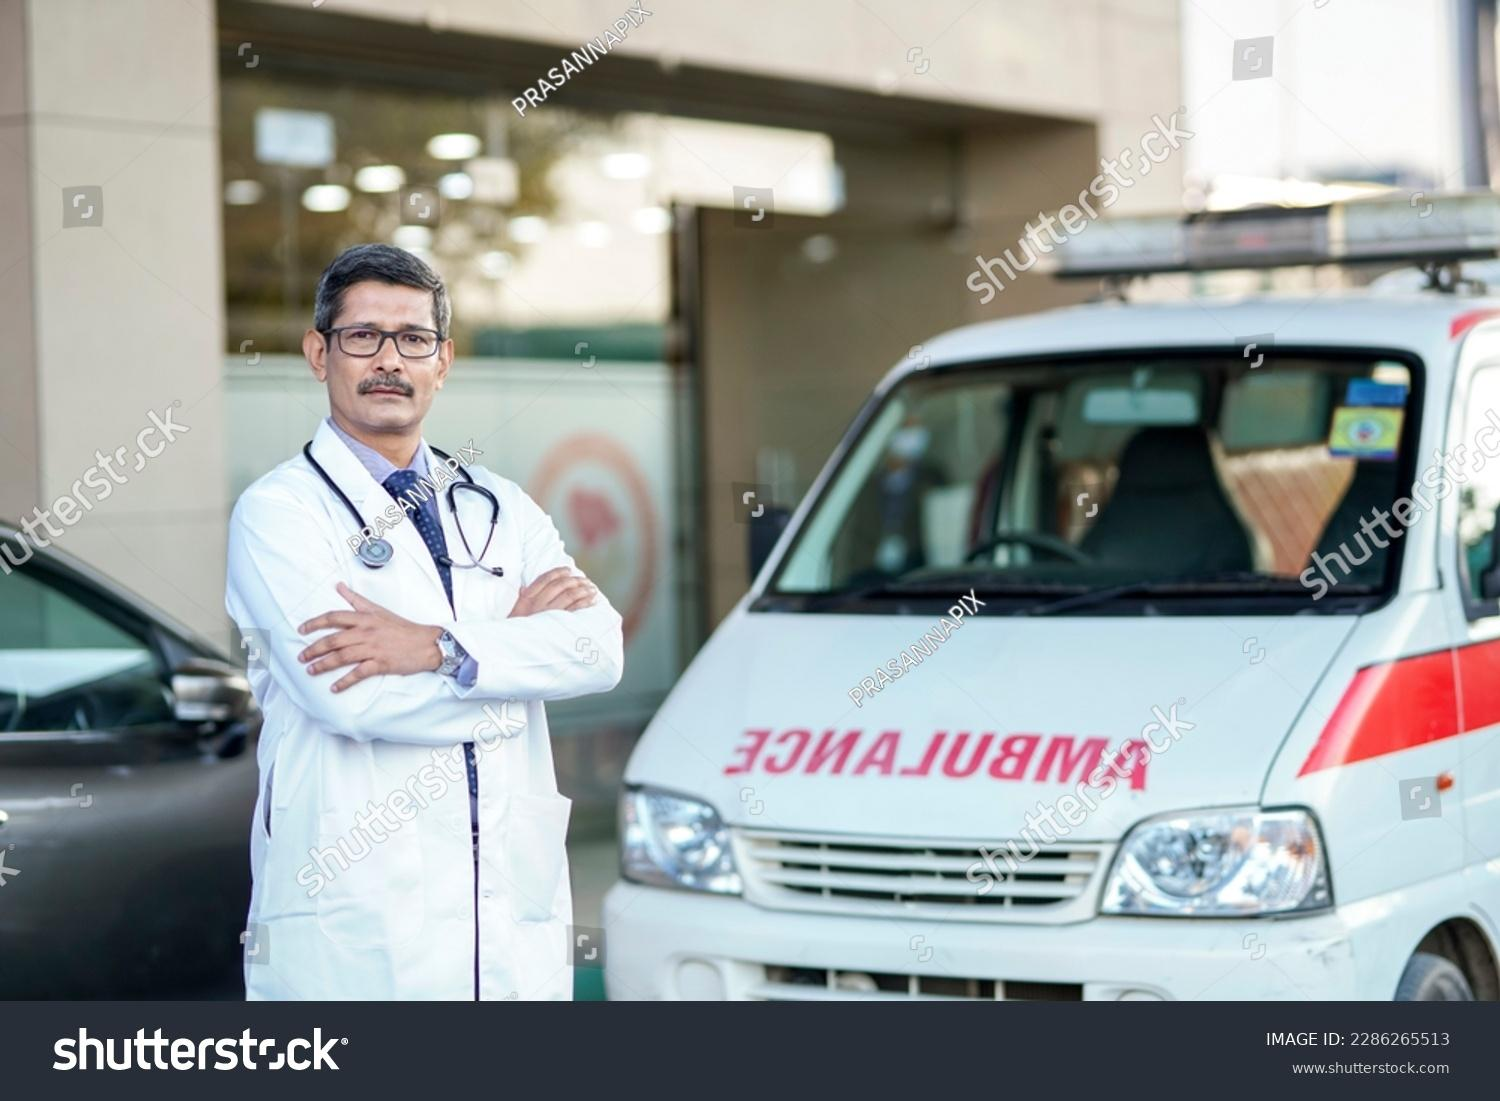ER: (607, 291, 1500, 1003)
